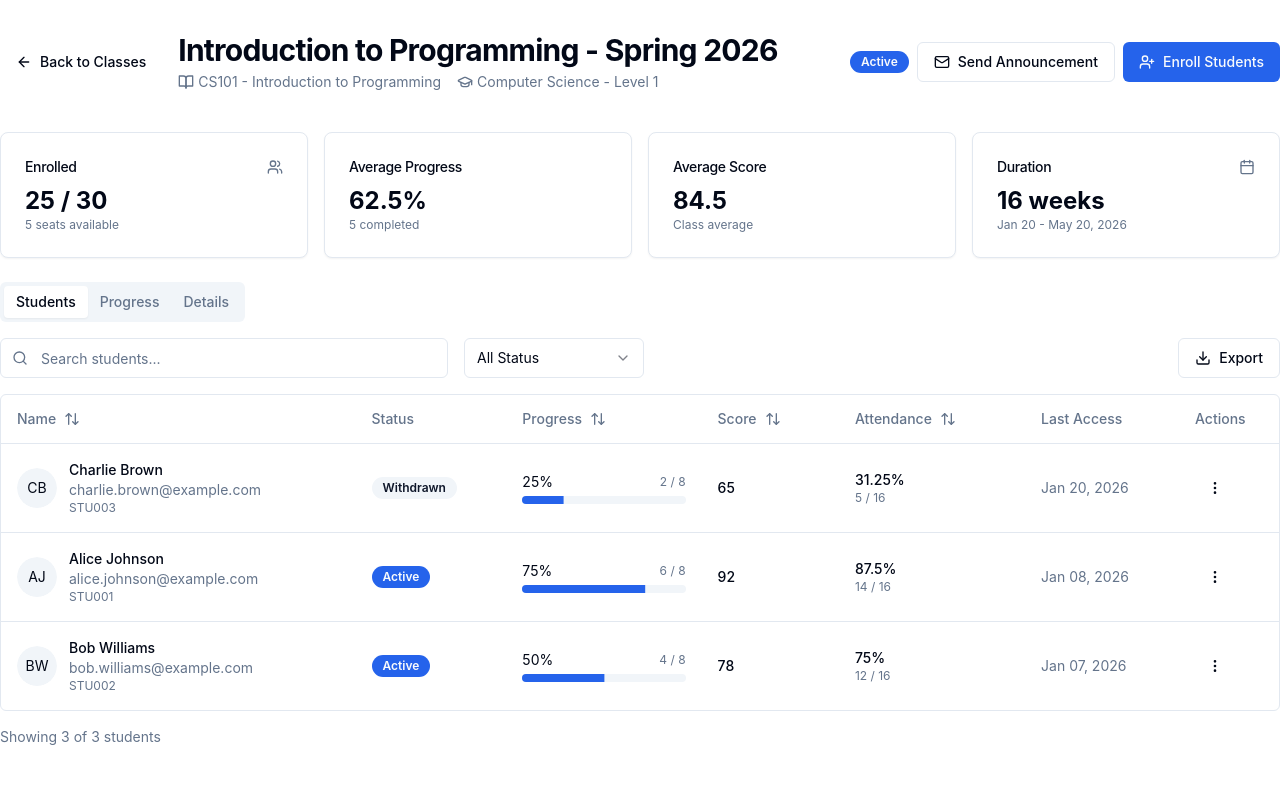
ClassDetailsPage › opens announcement dialog when send announcement clicked
Click the button "Send Announcement" at (1016, 62), box [917,42,1115,82]
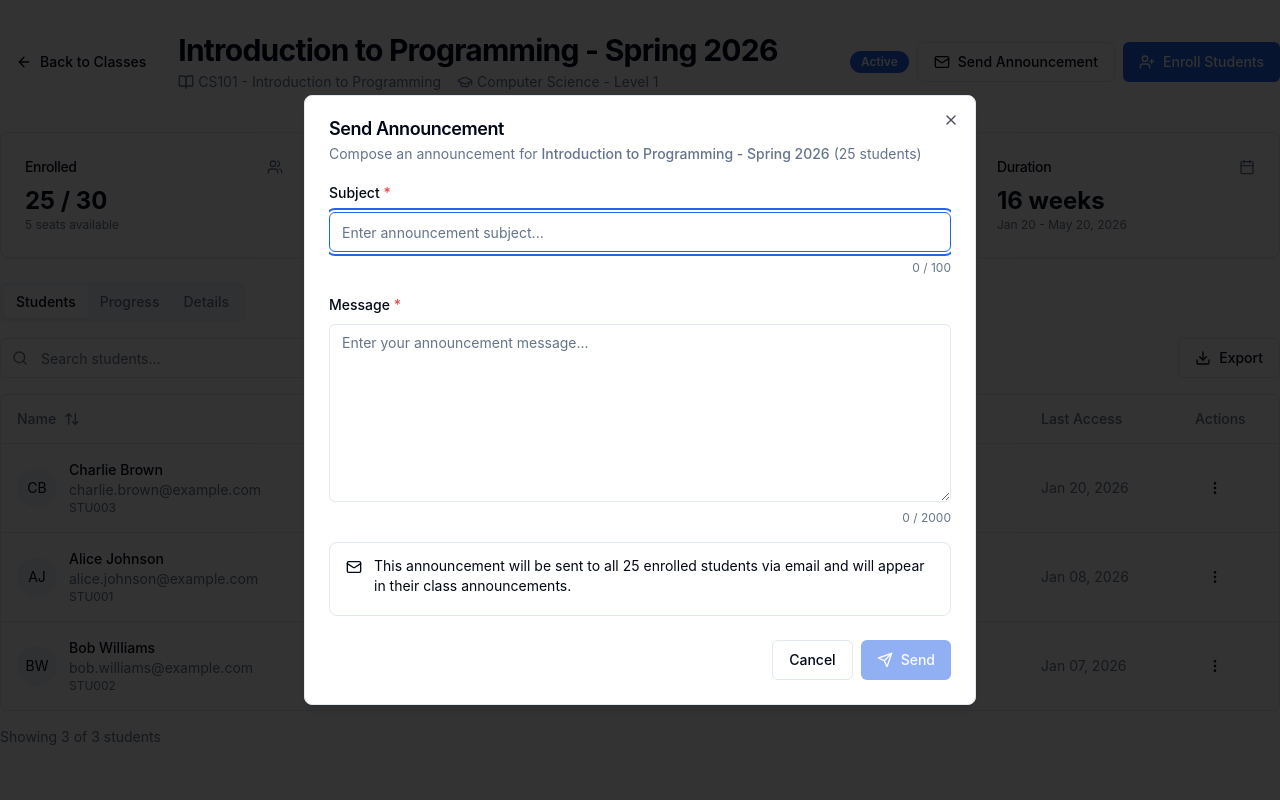
Check: the dialog is shown, box [304,95,976,705]
